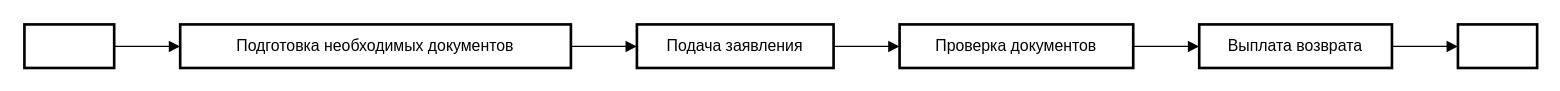
Image size: 1560x91. Some labels were removed from this diagram. The shapes that lost their labels are listed below. From the top down, each one's centre as x and y in pixels, then its label:
pixel 68 45: Начало
pixel 1497 45: Конец
